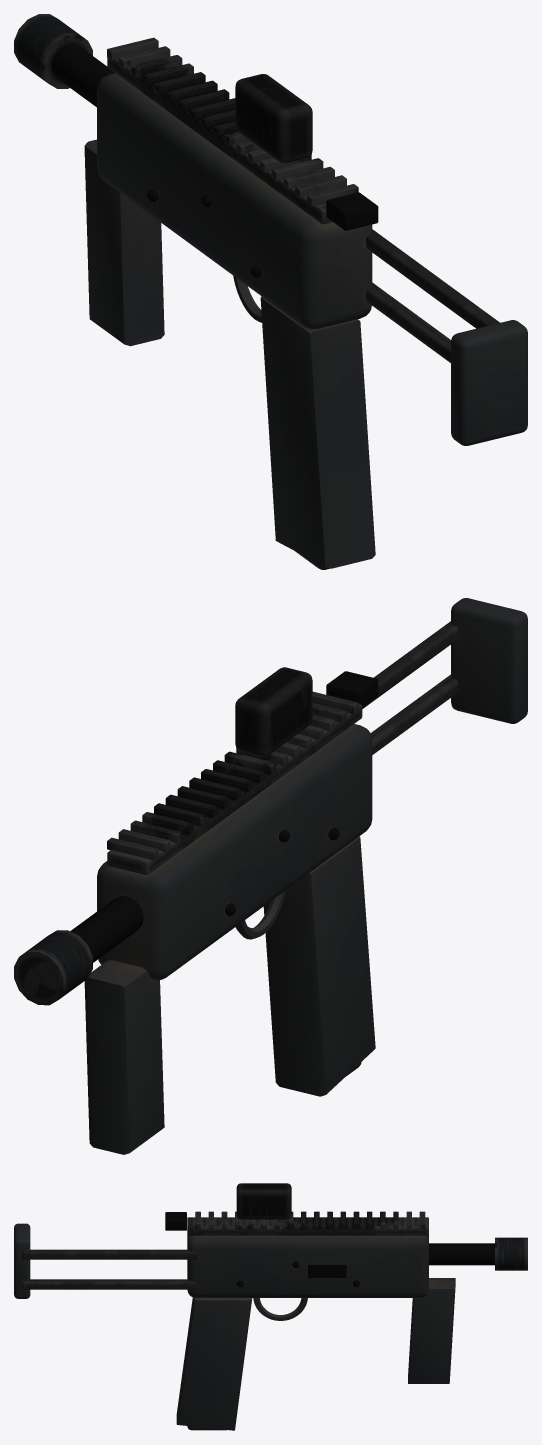
3 views of the same model, one above another, from view 1: azimuth 30°, elevation 25°; view 2: azimuth 150°, elevation 25°; view 3: azimuth 270°, elevation 25° (orthographic). The views are drawn at different scales.
Parts seen in each view (by area): view 1: body_furniture, body_receiver, body_metal; view 2: body_furniture, body_receiver, body_metal; view 3: body_furniture, body_receiver, body_metal.
Part boxes in pixels (left/top/right/bottom): body_furniture: left=84, top=73, right=527, bottom=568; body_receiver: left=14, top=14, right=499, bottom=362; body_metal: left=51, top=44, right=378, bottom=277; body_furniture: left=84, top=598, right=527, bottom=1154; body_receiver: left=14, top=621, right=458, bottom=1005; body_metal: left=70, top=671, right=378, bottom=962; body_furniture: left=14, top=1223, right=455, bottom=1430; body_receiver: left=22, top=1183, right=527, bottom=1289; body_metal: left=165, top=1212, right=494, bottom=1287.
Bounding box in the file's own units: 0.0512 × 0.24 × 0.4675.
4 materials, 4 textured.
